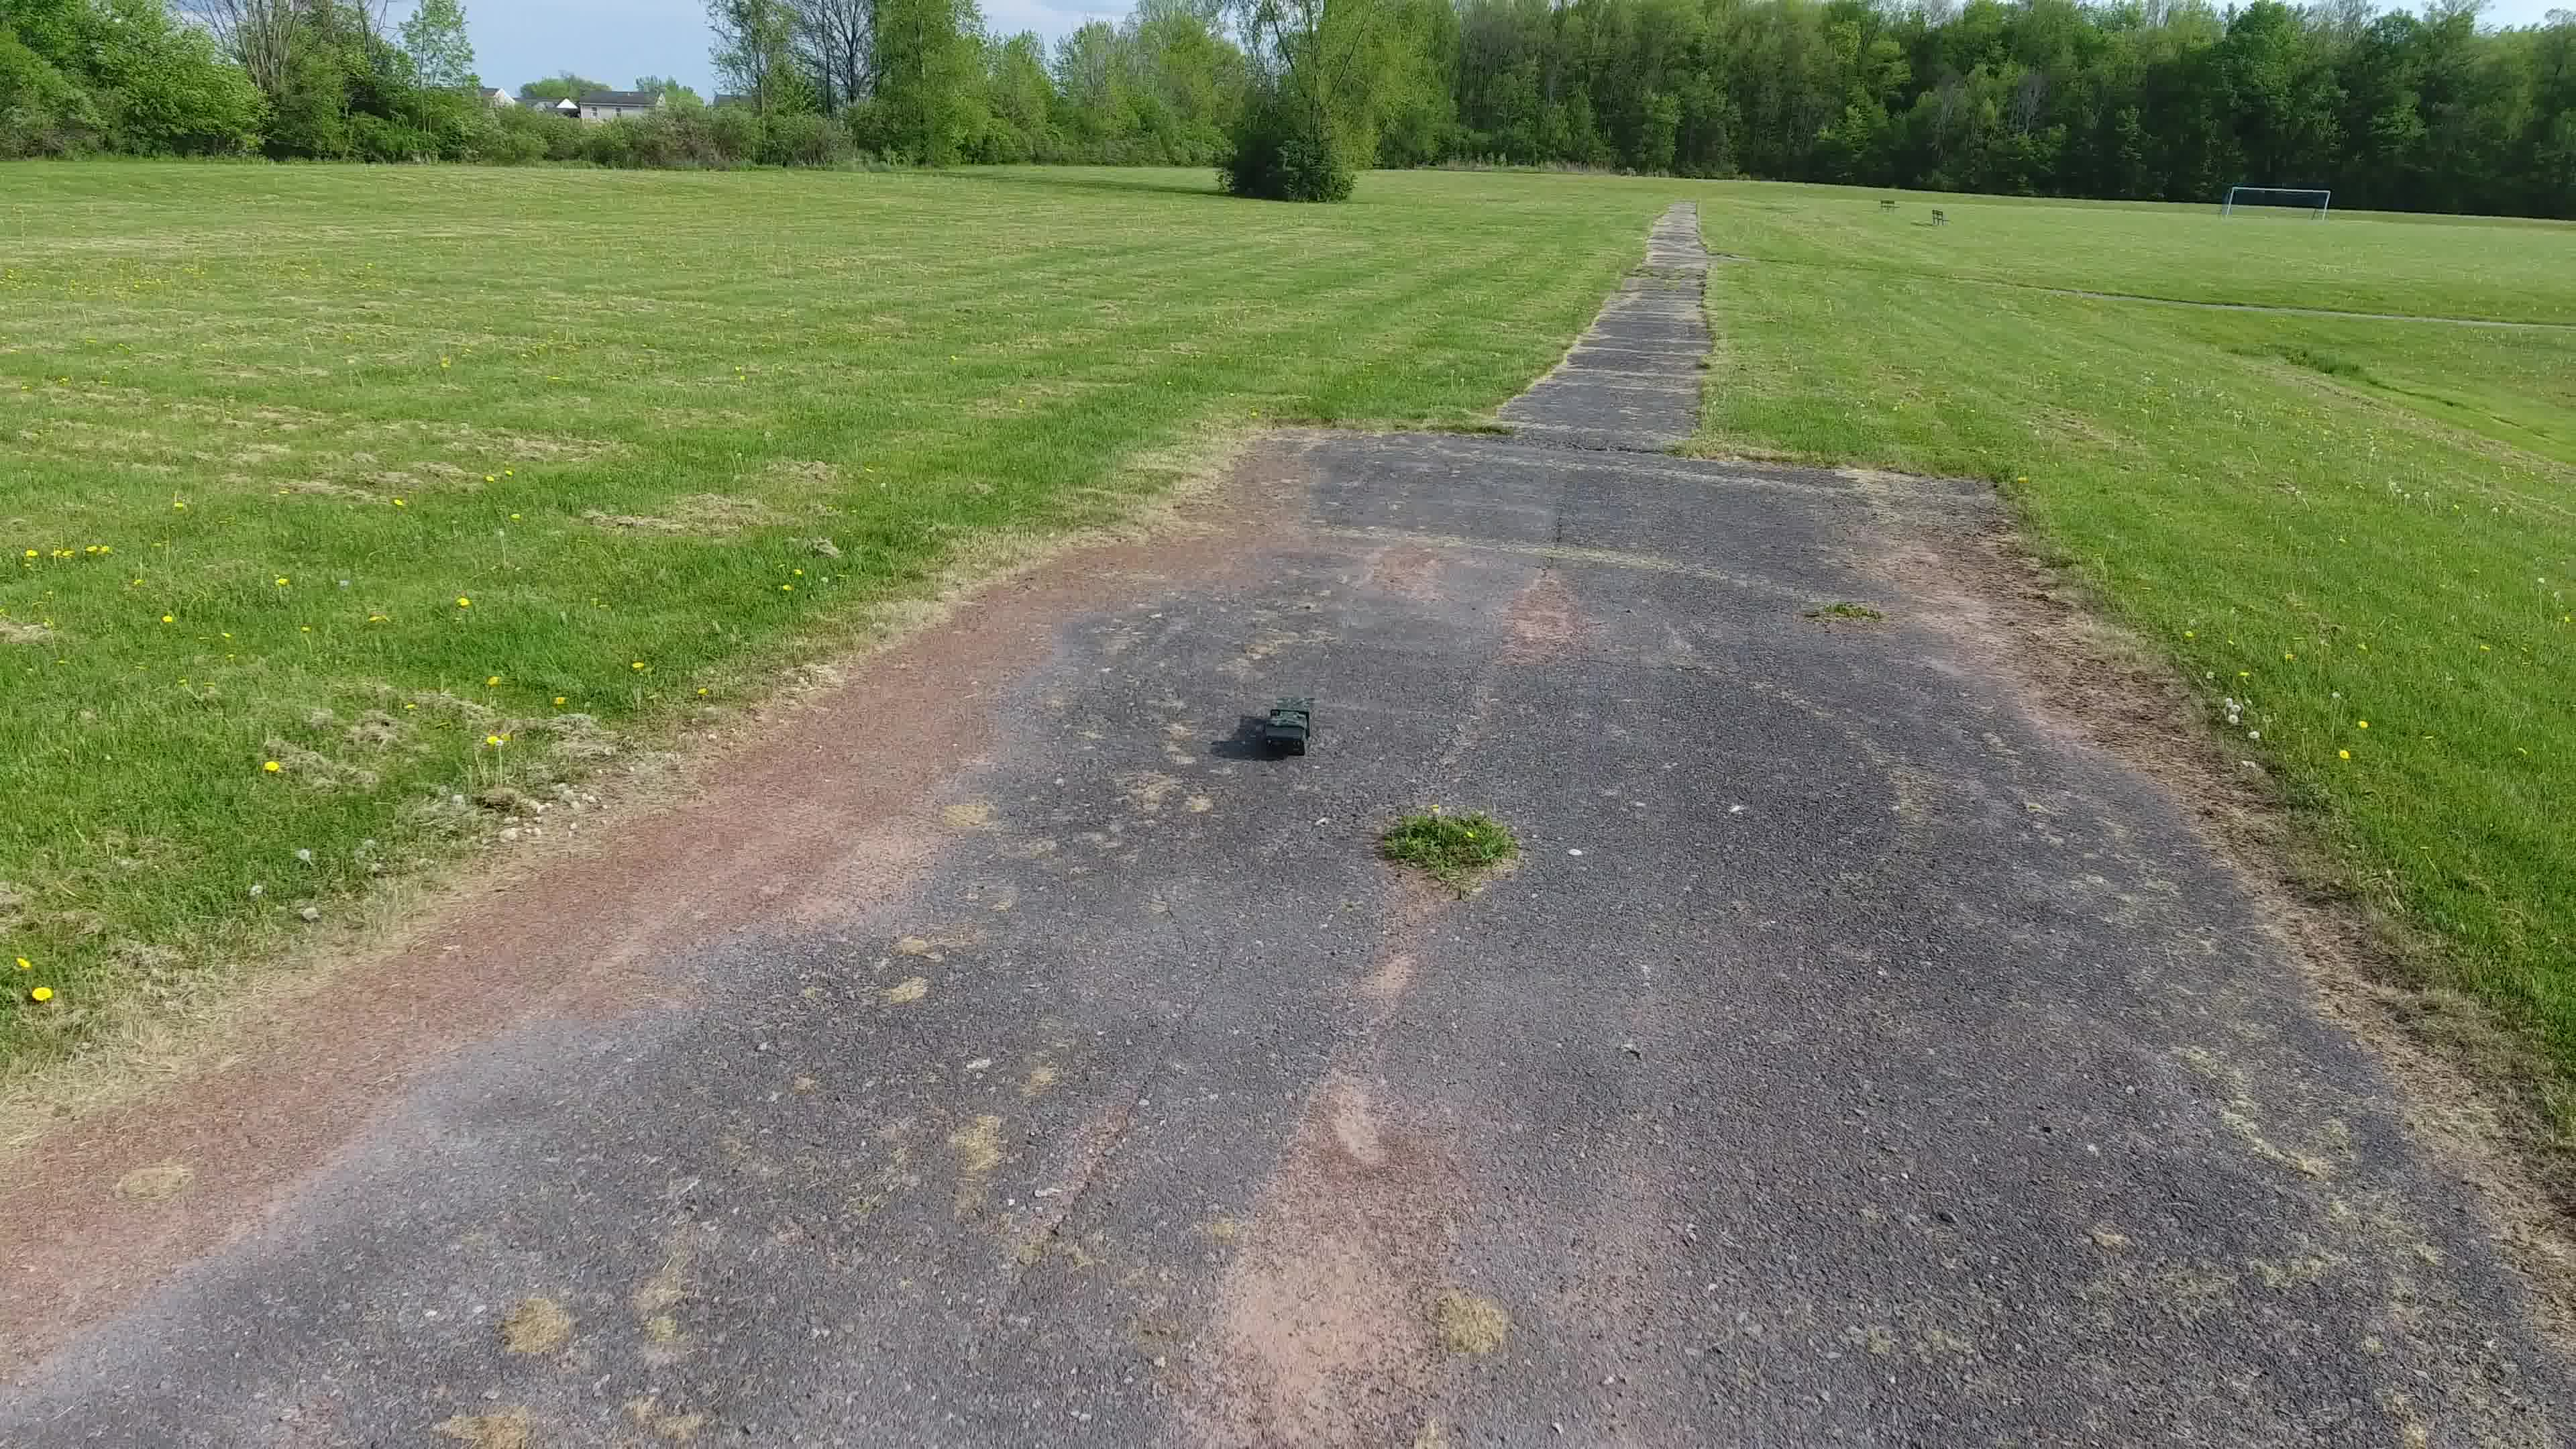transporter9_camo: (1260, 706, 1315, 757)
